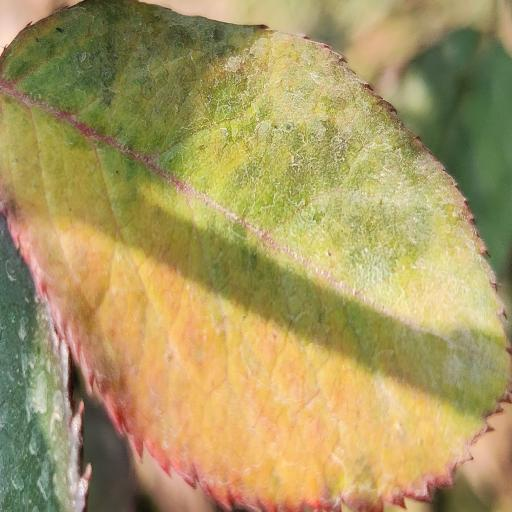red_mite: (0, 0, 510, 509)
